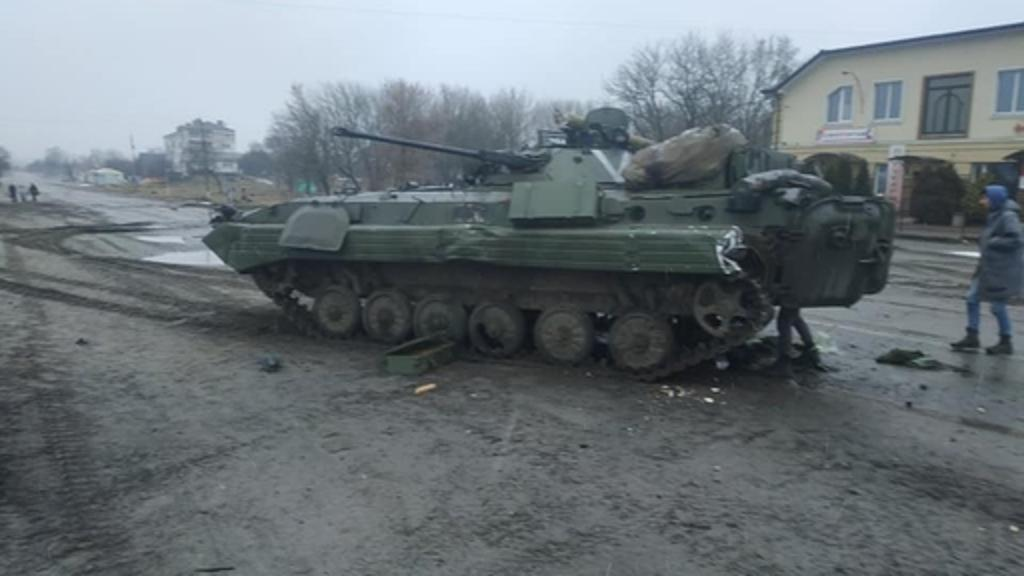APC-IFV: (198, 94, 806, 382)
